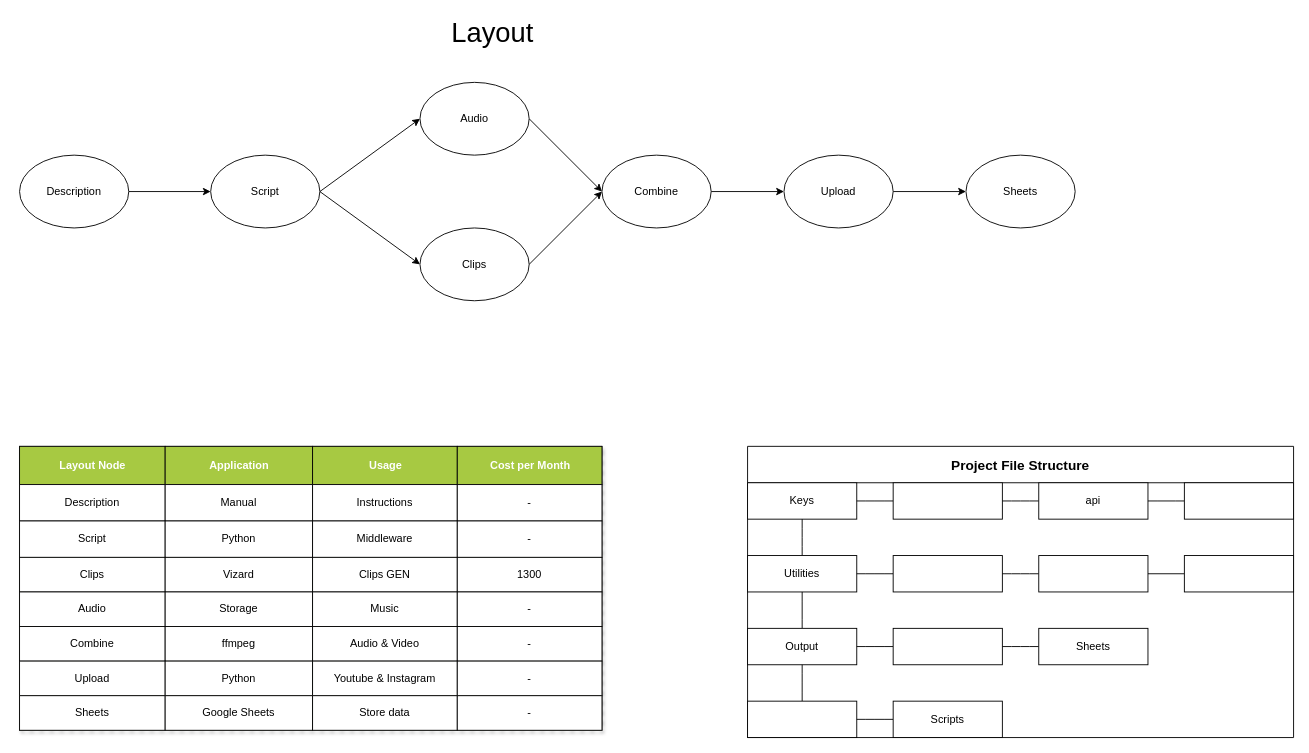
The diagram is 1309 pixels wide and 753 high, and some of its shapes have lost their labels. The centre of each missing label's shape, as x and y in pixels:
basic data: pixel 1238 500
client secret: pixel 947 500
Files: pixel 947 646
Main: pixel 802 719
Open API: pixel 1093 573
Runware: pixel 1238 573
Youtube: pixel 947 573
